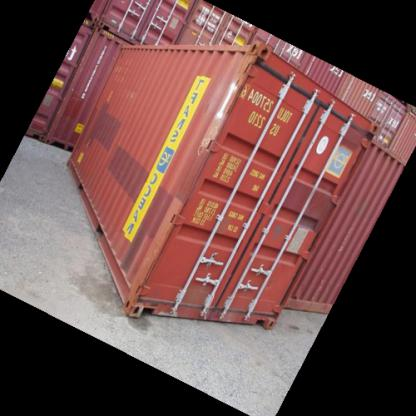Damage: (202, 40, 262, 148), (115, 221, 168, 317), (171, 287, 245, 319)
